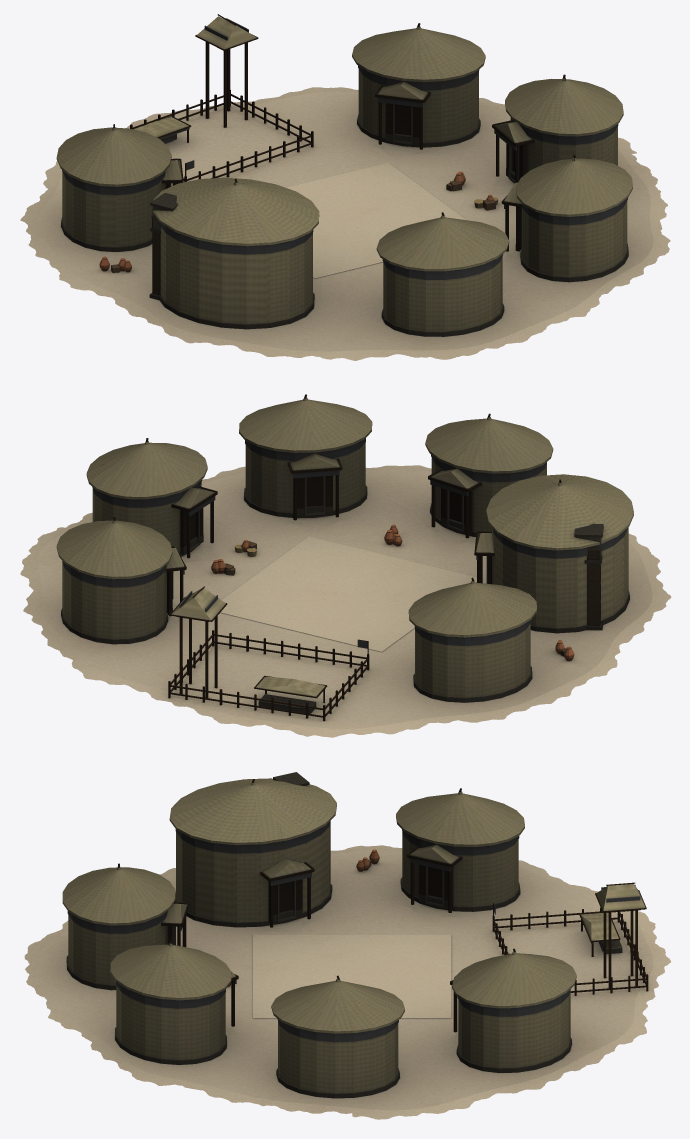
File: bronze-town-small-b-steppe-01e32104.glb
3 renders of one model, top to bottom at view 1: azimuth 30°, elevation 25°; view 2: azimuth 150°, elevation 25°; view 3: azimuth 270°, elevation 25°, orthographic.
Visible parts, largest first — view 1: LOD0; view 2: LOD0; view 3: LOD0.
Boxes of the visible parts, <box> form: LOD0: <box>20,14,670,360</box>; LOD0: <box>20,394,671,737</box>; LOD0: <box>24,772,670,1119</box>.
Size of what is drawn, in the model's own units: 4 by 0.8173 by 4.
Materials: 3 (3 with a texture image).
